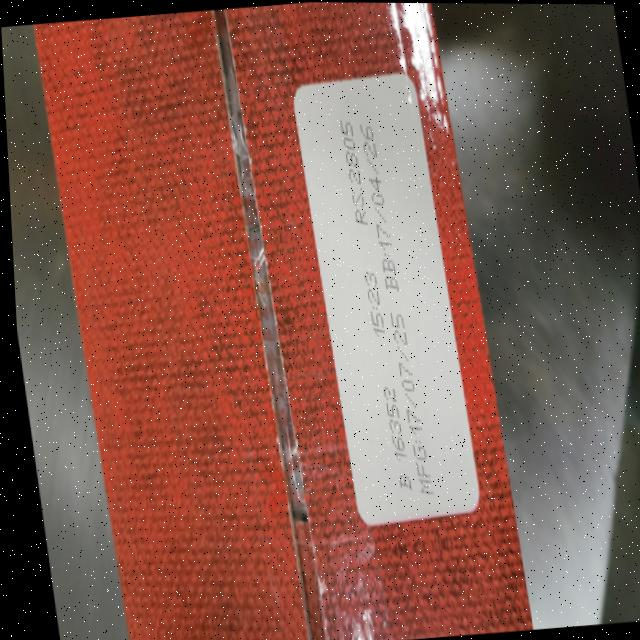BB: (358, 116, 400, 294)
Batch: (382, 383, 414, 495)
MFG: (388, 306, 434, 498)
RS: (338, 112, 370, 231)
TimeStamp: (360, 261, 386, 339)
